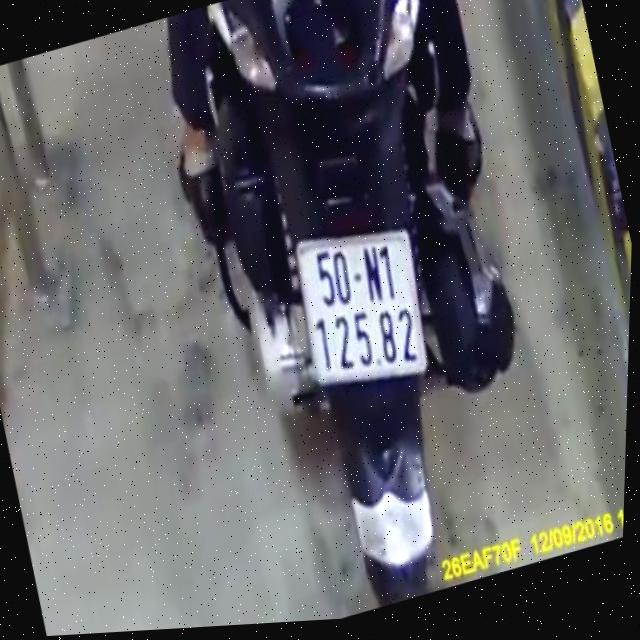motorcycle: (148, 0, 585, 630)
plate: (276, 200, 446, 410)
